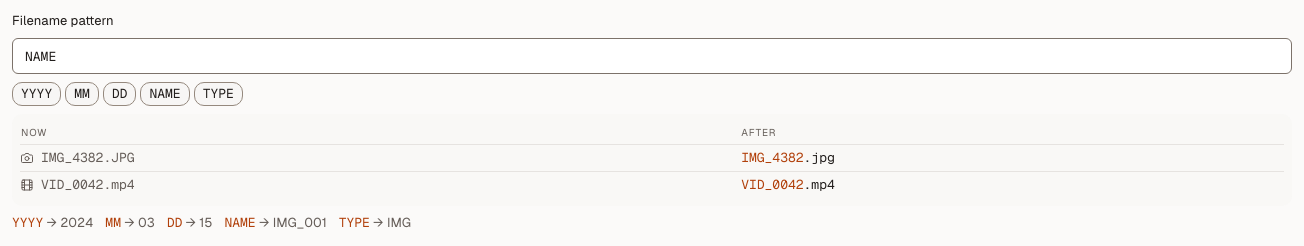
rename preview › labels the pattern and links invalid guidance to the input
This screenshot has width=1304, height=246.
Replace the text in the field labelled "Filename pattern" with "../NAME" at (652, 56), box [12,38,1292,74]
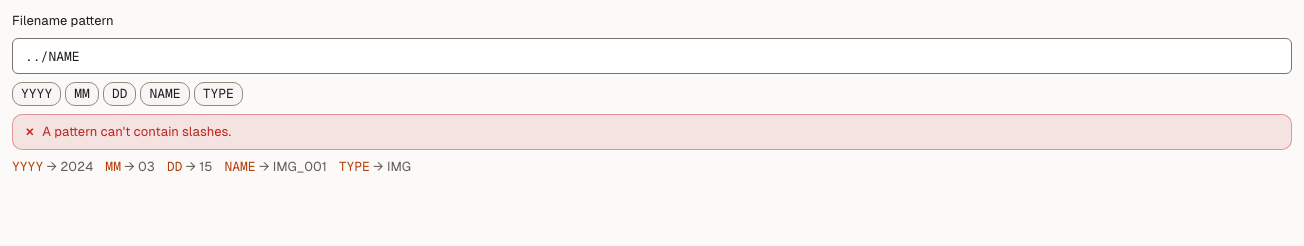
Check: the text "slashes" is shown, box [42,124,231,139]
